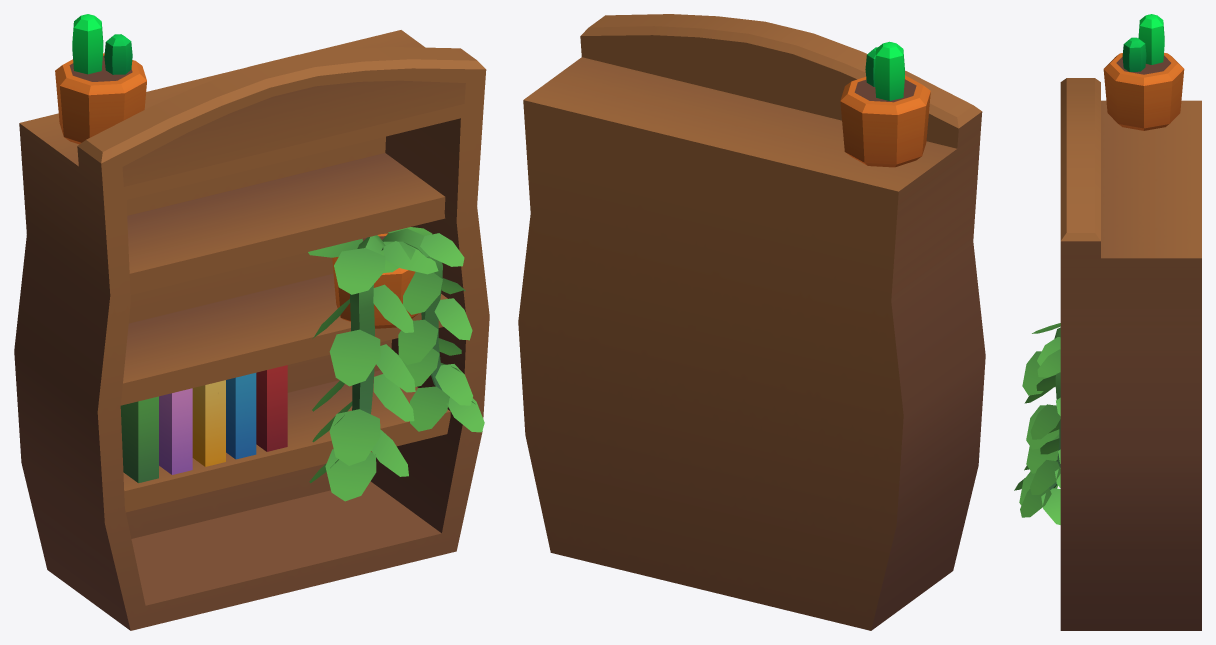
File: mesh_bookcase.fbx
3 renders of one model, left to right at view 1: azimuth 30°, elevation 25°; view 2: azimuth 150°, elevation 25°; view 3: azimuth 270°, elevation 25°, orthographic. The views are drawn at different scales.
Visible parts, largest first — view 1: mesh_bookcase, mesh_plant, mesh_cactus, mesh_bookGreen, mesh_bookPink, mesh_bookYellow, mesh_bookRed, mesh_bookBlue; view 2: mesh_bookcase, mesh_cactus; view 3: mesh_bookcase, mesh_cactus, mesh_plant.
Boxes of the visible parts, left/top/right/bottom form: mesh_bookcase: left=14, top=30, right=489, bottom=630; mesh_plant: left=308, top=227, right=484, bottom=501; mesh_cactus: left=55, top=14, right=146, bottom=144; mesh_bookGreen: left=120, top=396, right=158, bottom=483; mesh_bookPink: left=159, top=388, right=192, bottom=474; mesh_bookYellow: left=192, top=380, right=225, bottom=466; mesh_bookRed: left=256, top=365, right=287, bottom=451; mesh_bookBlue: left=226, top=373, right=256, bottom=459; mesh_bookcase: left=518, top=14, right=985, bottom=630; mesh_cactus: left=840, top=41, right=930, bottom=167; mesh_bookcase: left=1060, top=78, right=1201, bottom=630; mesh_cactus: left=1103, top=14, right=1184, bottom=130; mesh_plant: left=1014, top=323, right=1060, bottom=524.
Size of the model in its own units: 1.9 by 2.65 by 0.9307.
Materials: 1 (1 with a texture image).
